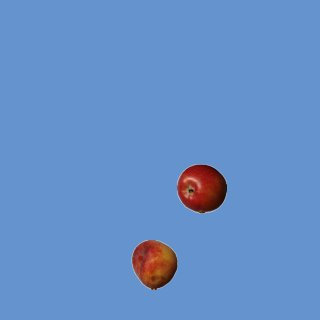Apple Braeburn: (176, 163, 226, 213)
Peach: (129, 239, 179, 289)
